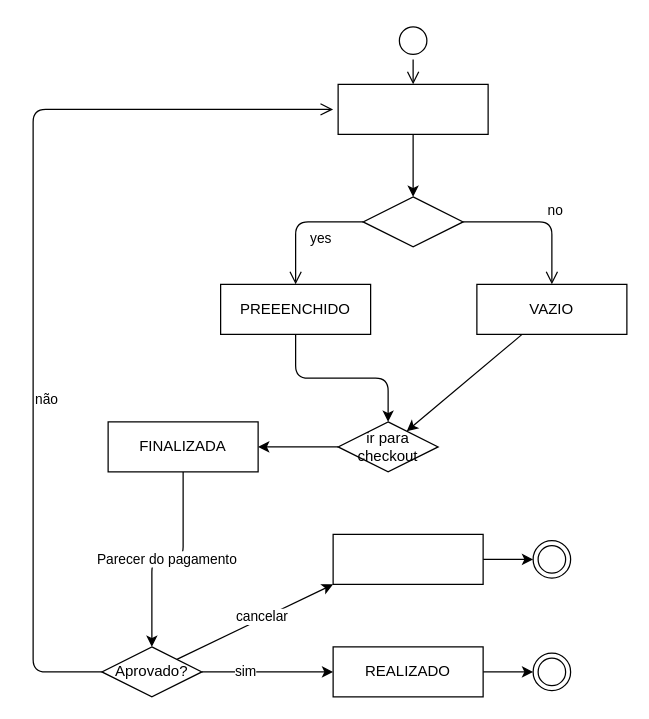
Some shapes in this 649 by 719 pixel diagram are drawn without their labels. Each missing label, with the centre of its shape:
ABERTA: (412,108)
Adicionar items: (412,221)
CANCELADA: (407,558)
